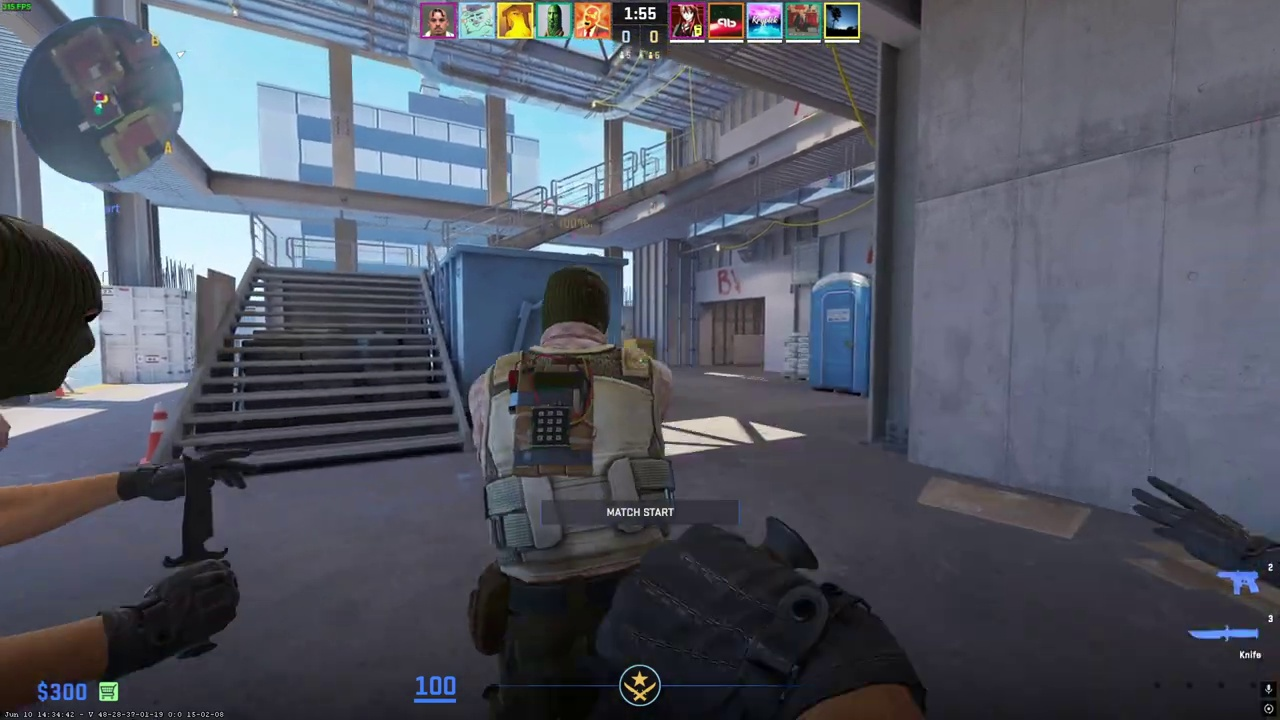Terrorist: (474, 266, 677, 717), (0, 214, 124, 720)
